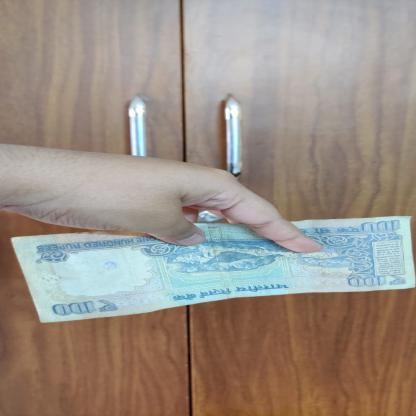Old100Back: (11, 216, 415, 324)
